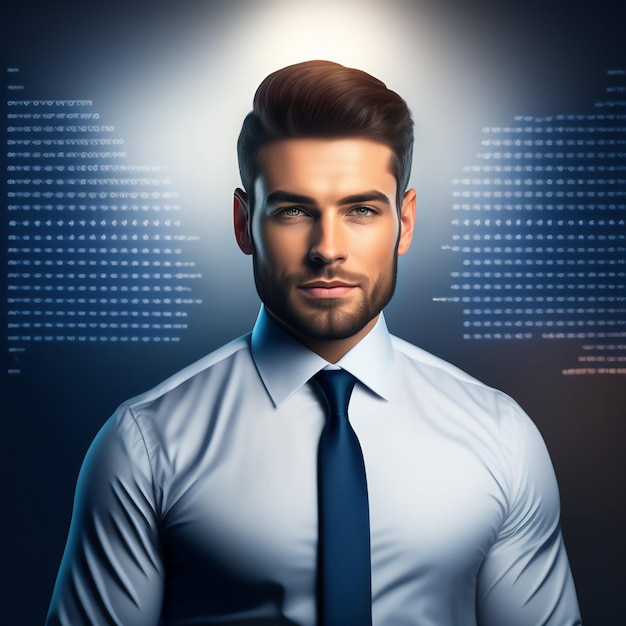young: (207, 69, 439, 330)
